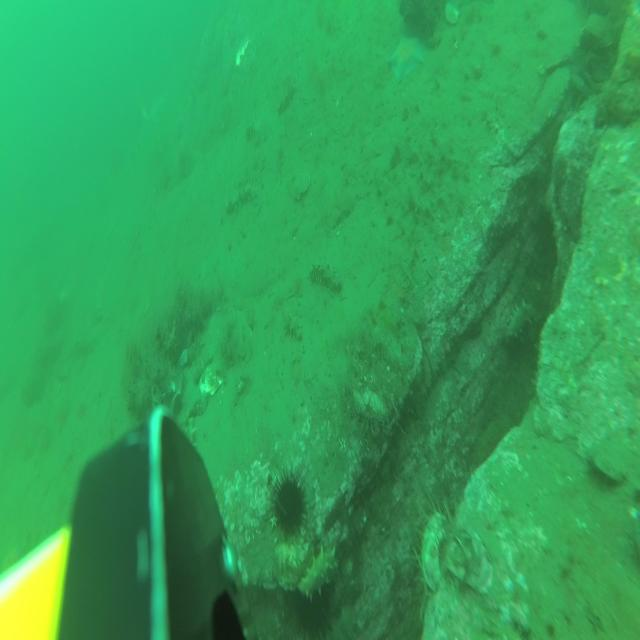echinus: (268, 467, 308, 545), (296, 579, 338, 640)
holothurian: (299, 546, 340, 598), (506, 298, 540, 350), (180, 412, 196, 483), (310, 260, 342, 293), (226, 183, 258, 215), (278, 79, 296, 115), (284, 313, 302, 344), (245, 121, 265, 148)
scallop: (198, 362, 223, 397), (231, 322, 251, 360), (290, 169, 311, 201), (224, 310, 244, 343), (444, 2, 458, 24)
starfish: (390, 34, 424, 83), (1, 535, 24, 591)
